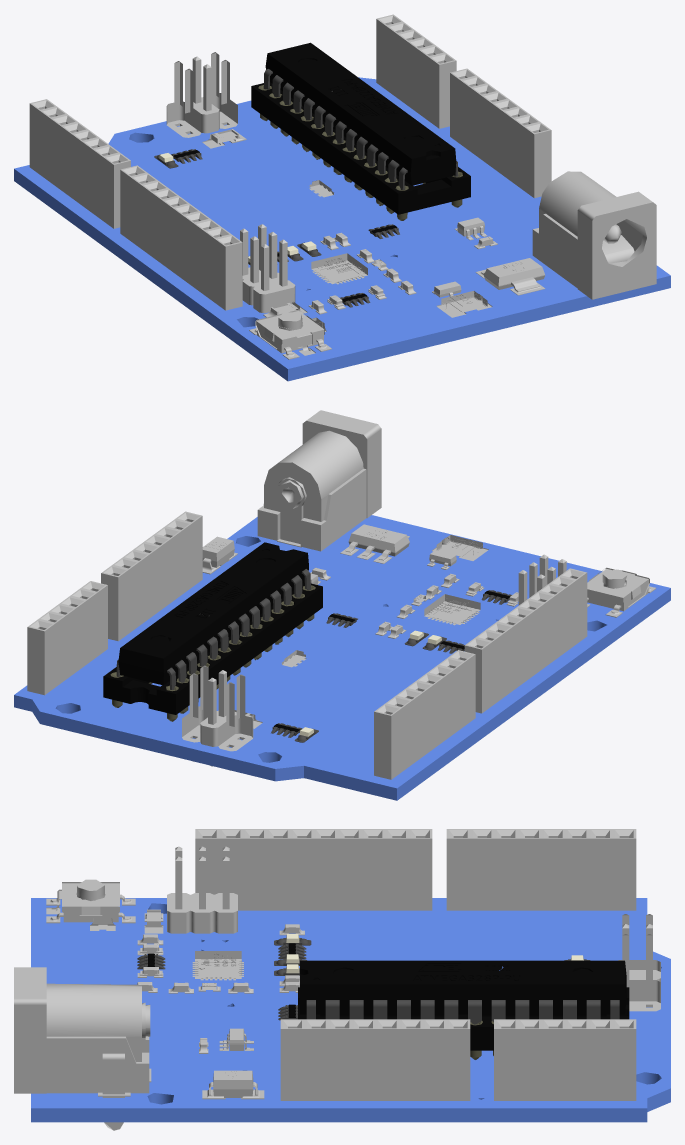
File: arduino-uno.glb
3 views of the same model, one above another, from view 1: azimuth 30°, elevation 25°; view 2: azimuth 150°, elevation 25°; view 3: azimuth 270°, elevation 25° (orthographic). The views are drawn at different scales.
Parts seen in each view (by area): view 1: b_arduinounomissblack_001_, b_arduinounopcb_001_, b_Microchip_ATMEL328P_001_, b_DIP_28_001_; view 2: b_arduinounomissblack_001_, b_arduinounopcb_001_, b_Microchip_ATMEL328P_001_, b_DIP_28_001_; view 3: b_arduinounomissblack_001_, b_arduinounopcb_001_, b_Microchip_ATMEL328P_001_, b_DIP_28_001_.
Boxes of the visible parts, box(x1,y1,x2,y2) form: b_arduinounomissblack_001_: box(29, 14, 656, 359); b_arduinounopcb_001_: box(14, 77, 670, 381); b_Microchip_ATMEL328P_001_: box(263, 42, 458, 189); b_DIP_28_001_: box(251, 82, 470, 220); b_arduinounomissblack_001_: box(27, 410, 656, 779); b_arduinounopcb_001_: box(14, 515, 670, 800); b_Microchip_ATMEL328P_001_: box(116, 542, 310, 689); b_DIP_28_001_: box(103, 582, 322, 721); b_arduinounomissblack_001_: box(14, 829, 660, 1130); b_arduinounopcb_001_: box(31, 898, 670, 1122); b_Microchip_ATMEL328P_001_: box(300, 960, 626, 1024); b_DIP_28_001_: box(298, 987, 629, 1059).
Size of the model in its own units: 53.34 by 15.2 by 70.4.
